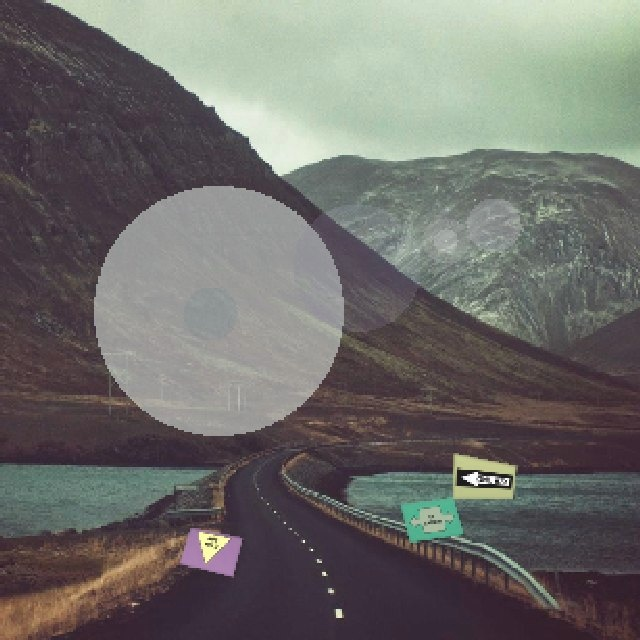GO_AROUND: (405, 501, 456, 535)
NOT_YIELD: (186, 530, 231, 568)
ONE_WAY_ left: (454, 466, 511, 487)
